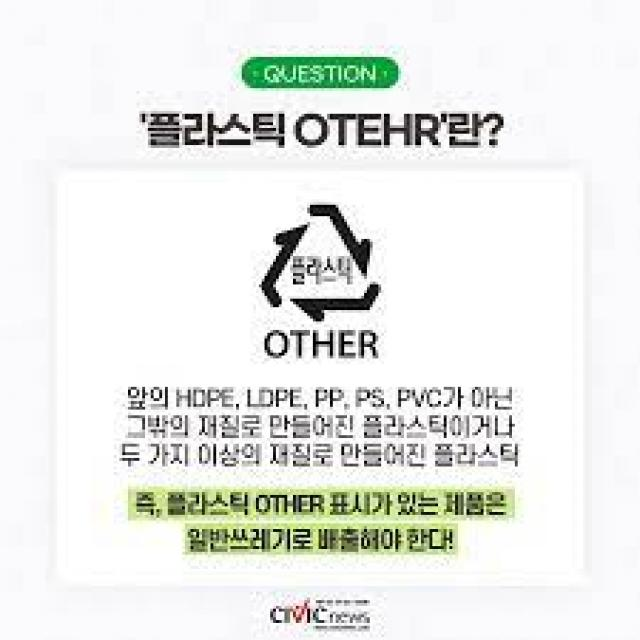Plastic: (253, 194, 388, 326)
